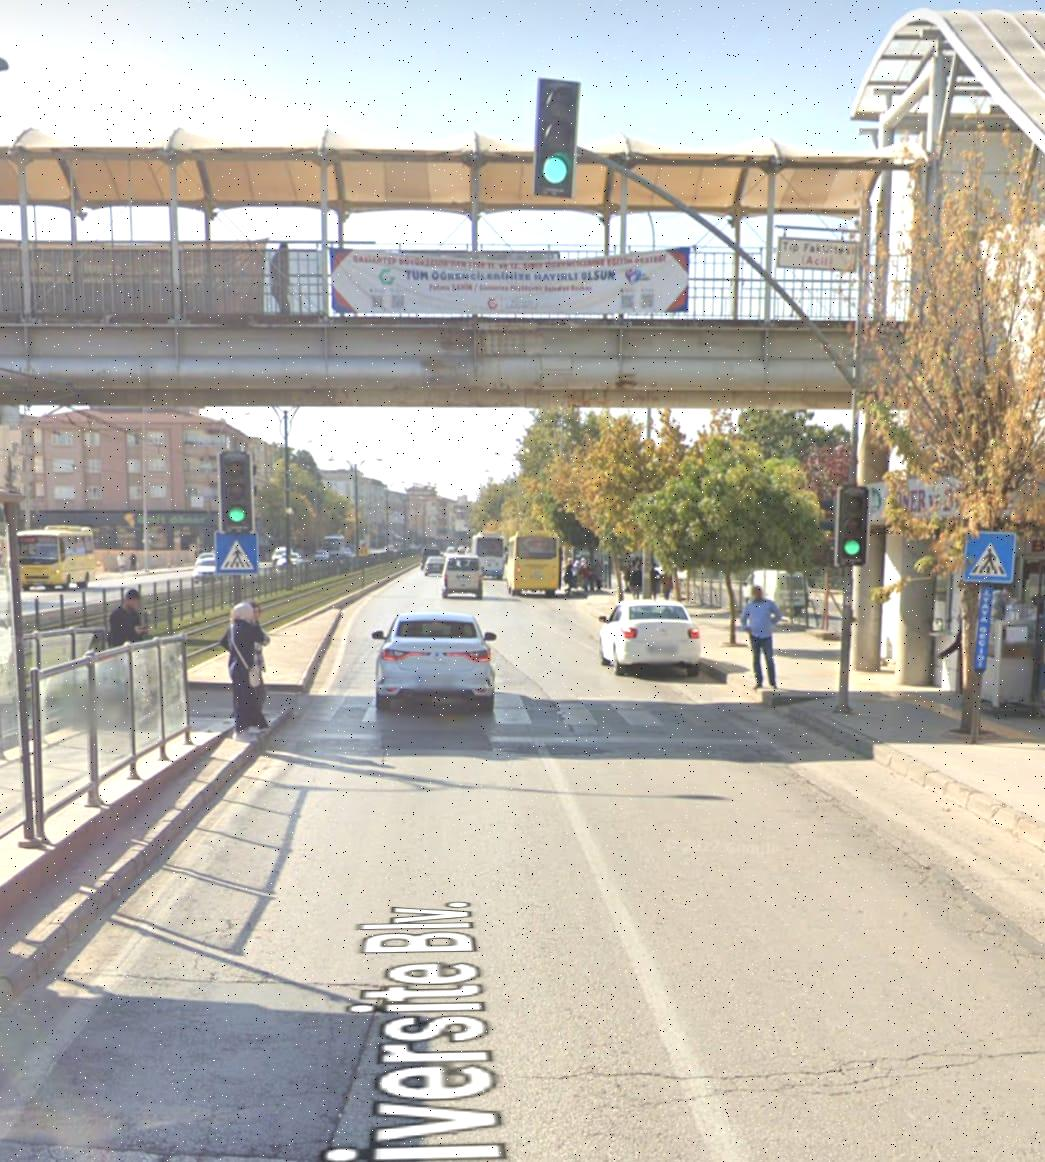greenlight: (535, 70, 577, 197), (218, 455, 255, 535), (836, 491, 870, 555)
